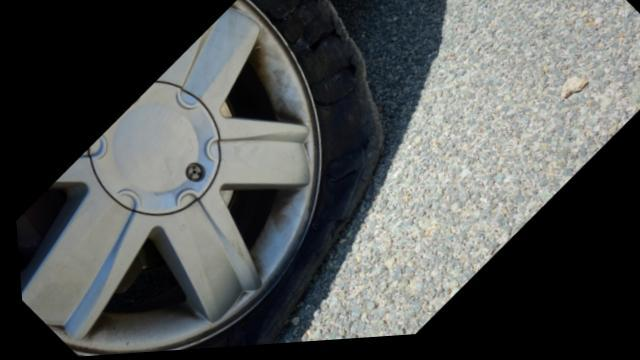tire flat: (13, 0, 385, 357)
